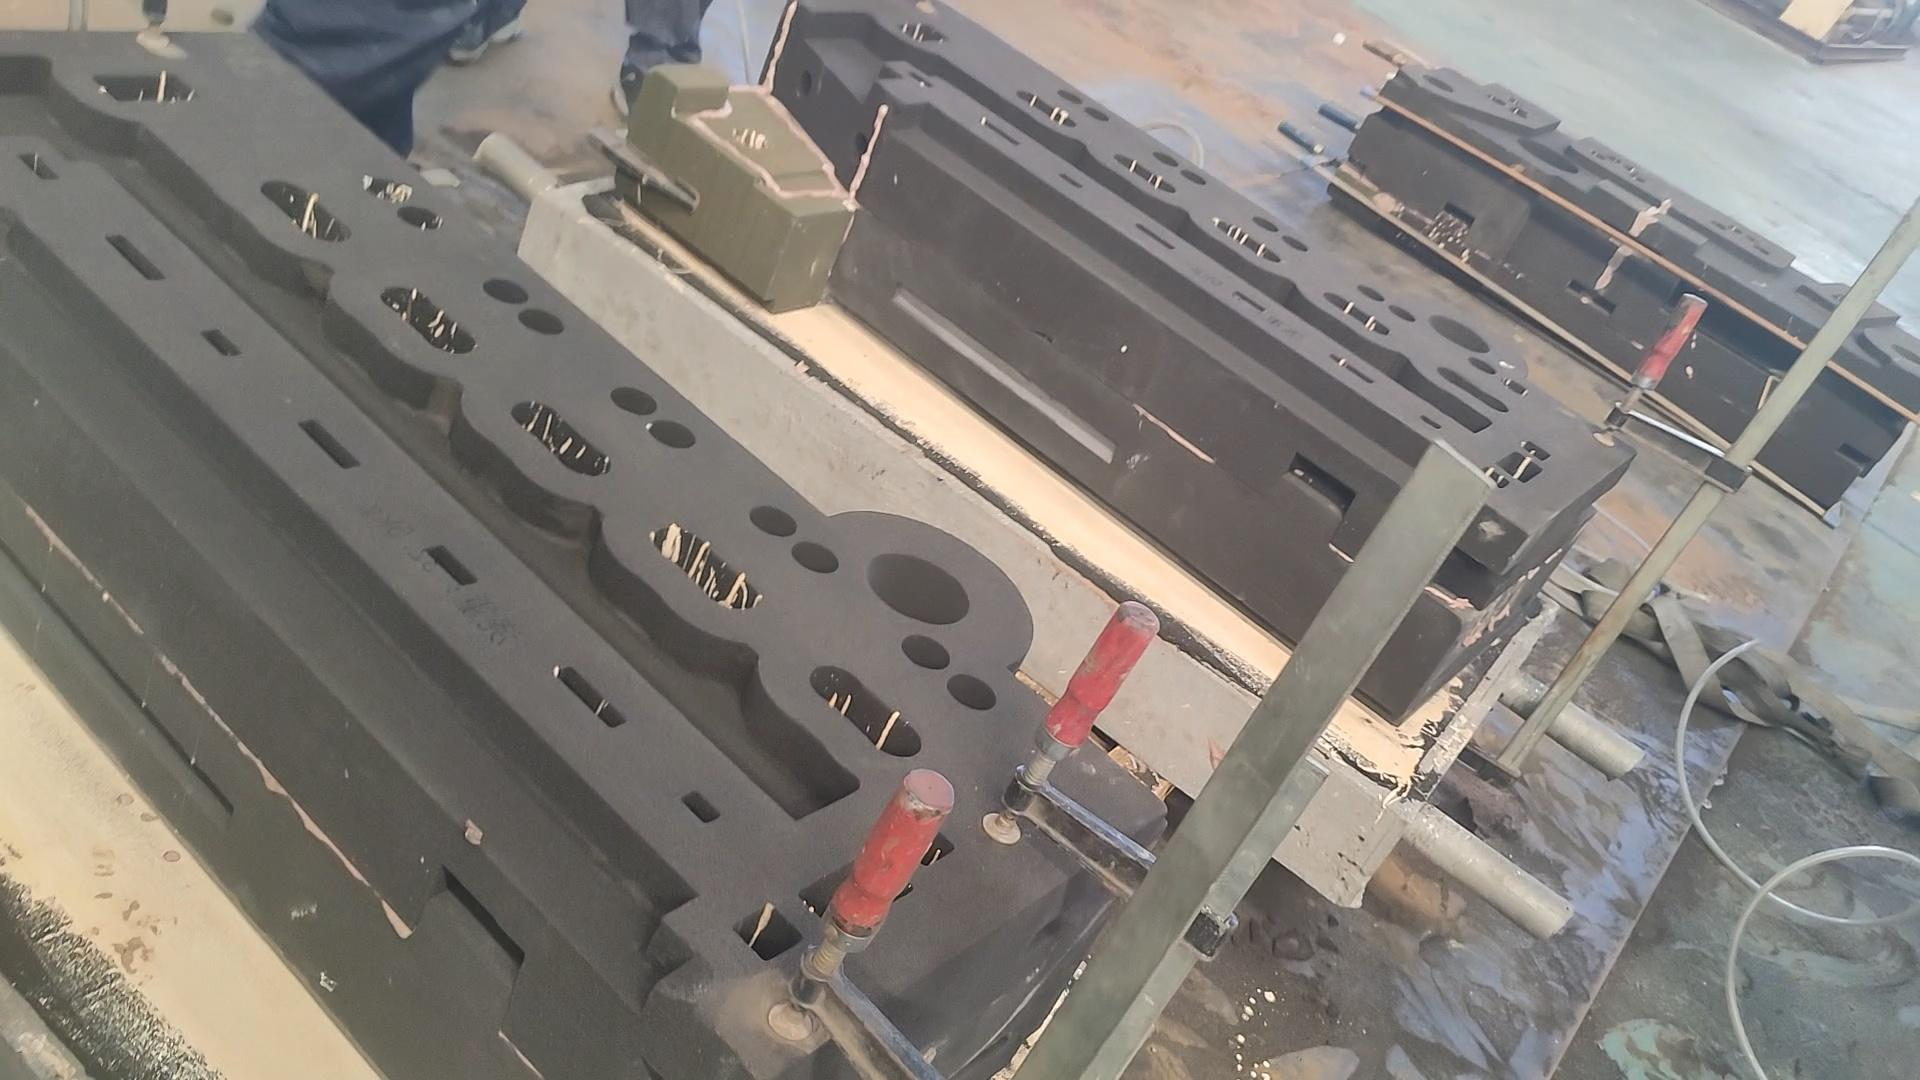pouring hole: (866, 553, 971, 625), (1428, 313, 1489, 353), (1892, 343, 1920, 365), (1423, 74, 1455, 92)
